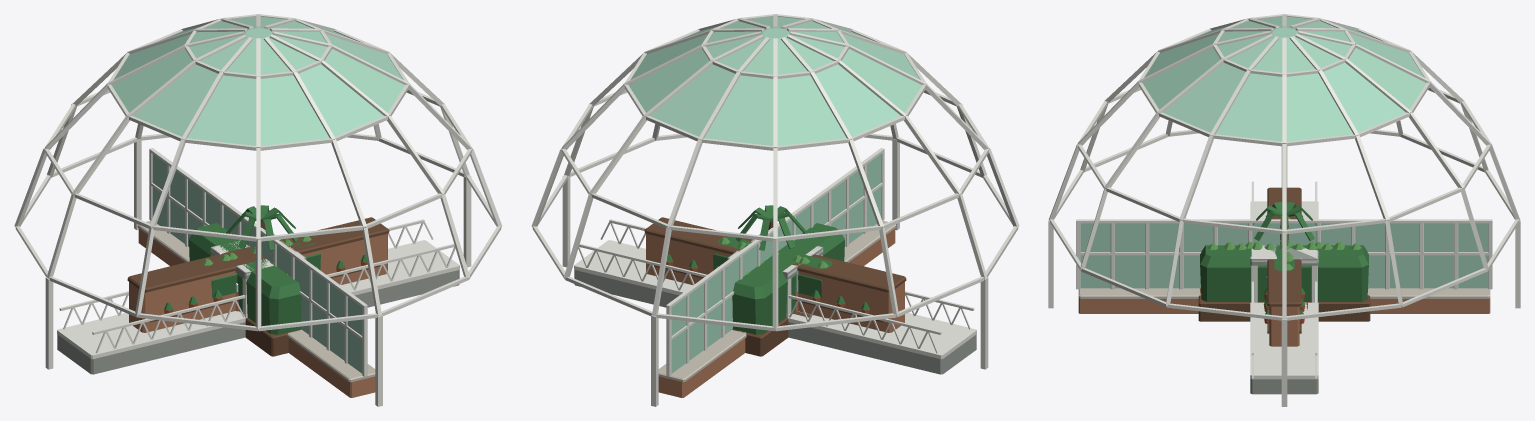
The model's file is Kit.fbx.
3 views of the same model, side by side, from view 1: azimuth 30°, elevation 25°; view 2: azimuth 150°, elevation 25°; view 3: azimuth 270°, elevation 25° (orthographic). The views are drawn at different scales.
Visible parts, largest first — view 1: GlassDome_GH_Iron, GlassDome_GH_Glass, IronBridge_GH_Iron, HallWall60_GH_Glass, PottingWall_GH_Brick, IronBridge_GH_IronDark, PottingWall_GH_Wood, Bed10x25_GH_Leaf, HallWall60_GH_Iron, HallWall60_GH_Stone, Bed10x20_GH_Leaf, HallWall40_GH_Iron (+7 smaller); view 2: GlassDome_GH_Iron, GlassDome_GH_Glass, IronBridge_GH_Iron, HallWall60_GH_Glass, PottingWall_GH_Brick, IronBridge_GH_IronDark, PottingWall_GH_Wood, Bed10x25_GH_Leaf, HallWall60_GH_Iron, HallWall40_GH_Iron, Bed10x20_GH_Leaf, HallWall60_GH_Stone (+6 smaller); view 3: GlassDome_GH_Iron, GlassDome_GH_Glass, HallWall60_GH_Glass, HallWall40_GH_Glass, IronBridge_GH_Iron, Bed10x20_GH_Leaf, HallWall60_GH_Iron, Bed10x25_GH_Leaf, HallWall60_GH_Brick, HallWall60_GH_Stone, HallWall40_GH_Iron, PottingWall_GH_Wood (+7 smaller).
Boxes of the visible parts, <box> form: GlassDome_GH_Iron: <box>14,14,502,406</box>; GlassDome_GH_Glass: <box>112,16,404,145</box>; IronBridge_GH_Iron: <box>57,219,459,359</box>; HallWall60_GH_Glass: <box>152,154,362,373</box>; PottingWall_GH_Brick: <box>129,233,387,332</box>; IronBridge_GH_IronDark: <box>57,270,459,374</box>; PottingWall_GH_Wood: <box>127,217,389,322</box>; Bed10x25_GH_Leaf: <box>189,223,301,334</box>; HallWall60_GH_Iron: <box>149,148,367,376</box>; HallWall60_GH_Stone: <box>137,220,375,382</box>; Bed10x20_GH_Leaf: <box>197,230,289,322</box>; HallWall40_GH_Iron: <box>185,174,331,350</box>; GlassDome_GH_Iron: <box>531,14,1019,406</box>; GlassDome_GH_Glass: <box>629,16,921,145</box>; IronBridge_GH_Iron: <box>574,219,976,359</box>; HallWall60_GH_Glass: <box>671,154,881,373</box>; PottingWall_GH_Brick: <box>646,233,904,332</box>; IronBridge_GH_IronDark: <box>574,270,976,374</box>; PottingWall_GH_Wood: <box>644,217,906,322</box>; Bed10x25_GH_Leaf: <box>732,223,844,334</box>; HallWall60_GH_Iron: <box>666,148,884,376</box>; HallWall40_GH_Iron: <box>703,174,848,350</box>; Bed10x20_GH_Leaf: <box>744,229,836,322</box>; HallWall60_GH_Stone: <box>658,220,896,382</box>; GlassDome_GH_Iron: <box>1048,14,1520,406</box>; GlassDome_GH_Glass: <box>1142,16,1426,141</box>; HallWall60_GH_Glass: <box>1080,223,1488,288</box>; HallWall40_GH_Glass: <box>1149,223,1419,288</box>; IronBridge_GH_Iron: <box>1250,181,1318,379</box>; Bed10x20_GH_Leaf: <box>1222,245,1346,301</box>; HallWall60_GH_Iron: <box>1076,219,1492,289</box>; Bed10x25_GH_Leaf: <box>1200,245,1368,301</box>; HallWall60_GH_Brick: <box>1078,298,1490,313</box>; HallWall60_GH_Stone: <box>1078,288,1490,298</box>; HallWall40_GH_Iron: <box>1145,220,1423,289</box>; PottingWall_GH_Wood: <box>1267,187,1301,333</box>.
Size of the model in its own units: 68.8 by 44.29 by 68.8.
